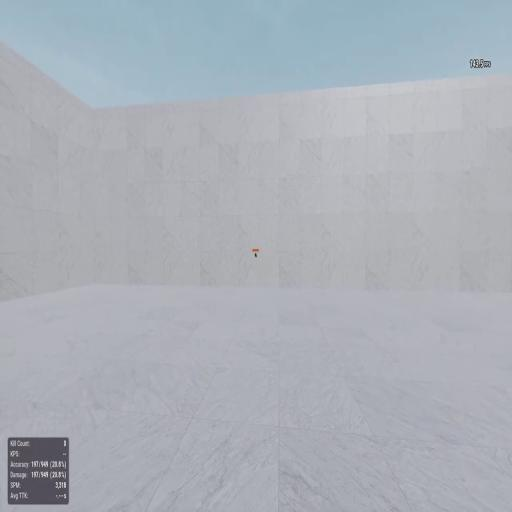Crosshair: (255, 254, 257, 258)
Target: (254, 252, 256, 256)
